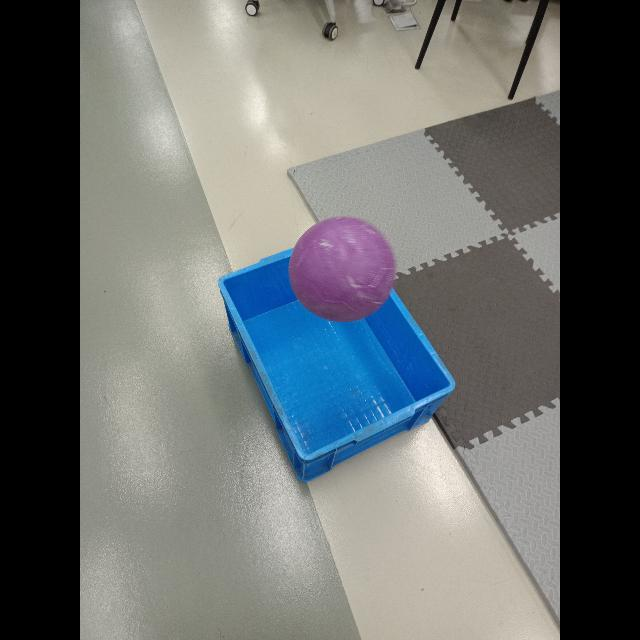P: (290, 215, 394, 322)
